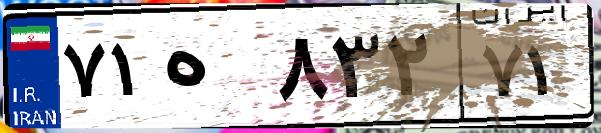1: (525, 38, 570, 115), (110, 28, 158, 98)
2: (385, 28, 445, 110)
3: (330, 28, 385, 110)
7: (57, 26, 110, 100), (475, 38, 525, 113)
8: (270, 28, 330, 110)
ه: (158, 20, 270, 120)
